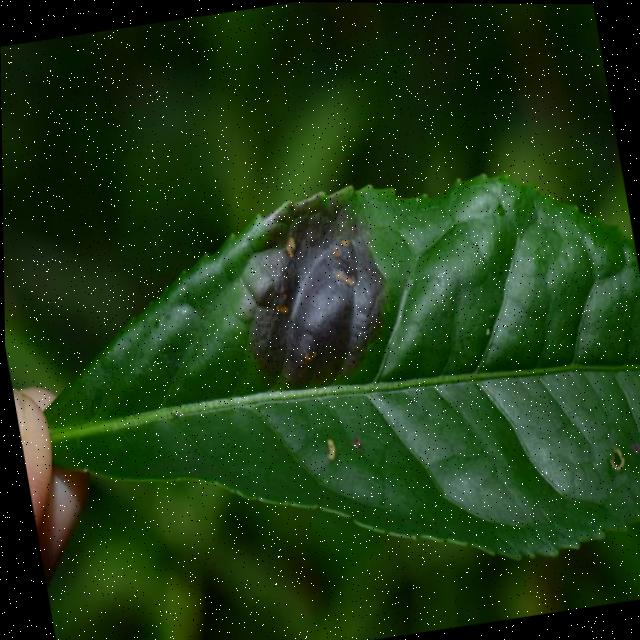Tea exobasidium blight: (235, 185, 405, 382)
